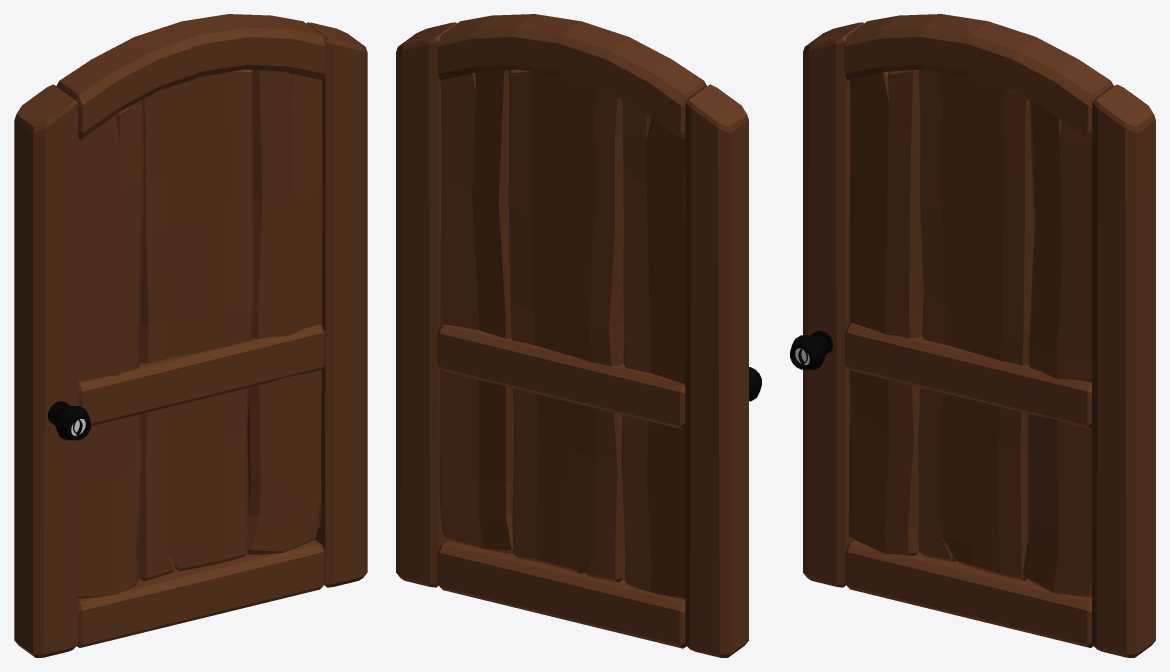
The model's file is Door.fbx.
3 views of the same model, side by side, from view 1: azimuth 30°, elevation 25°; view 2: azimuth 150°, elevation 25°; view 3: azimuth 330°, elevation 25° (orthographic).
Visible parts, largest first — view 1: Door3; view 2: Door3; view 3: Door3.
Boxes of the visible parts, x1,y1,x2,y2 form: Door3: (14,14,367,657); Door3: (396,14,761,657); Door3: (790,14,1155,657).
Size of the model in its own units: 610 by 1018 by 147.
